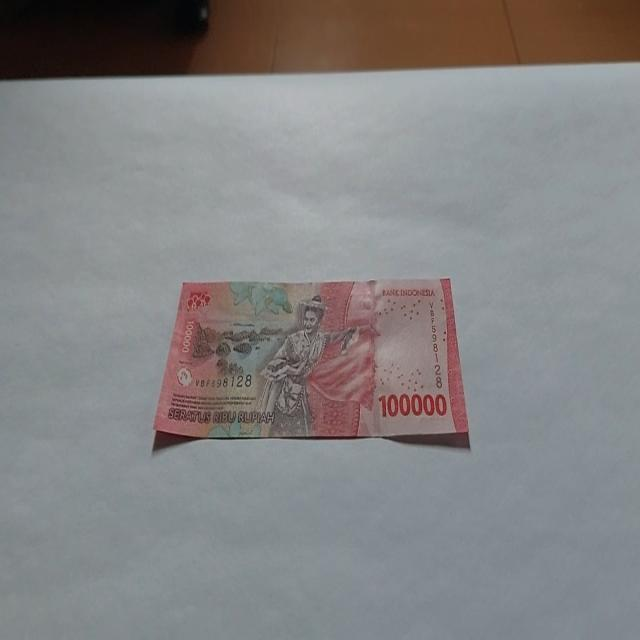seratus ribu rupiah: (152, 276, 470, 450), (252, 292, 360, 438)
